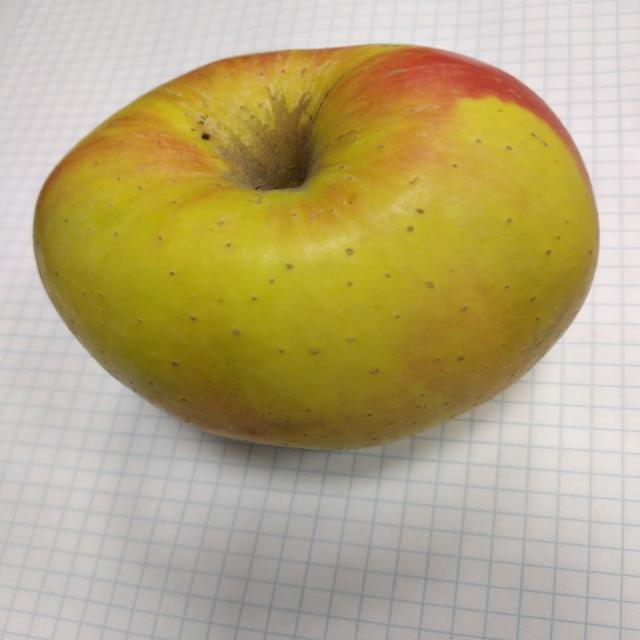Fresh Apple: (18, 30, 614, 482)
